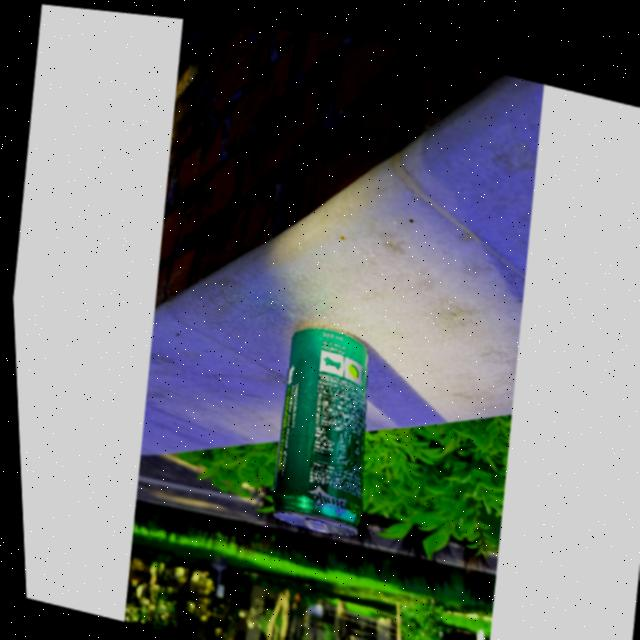Sprite: (260, 313, 376, 532)
